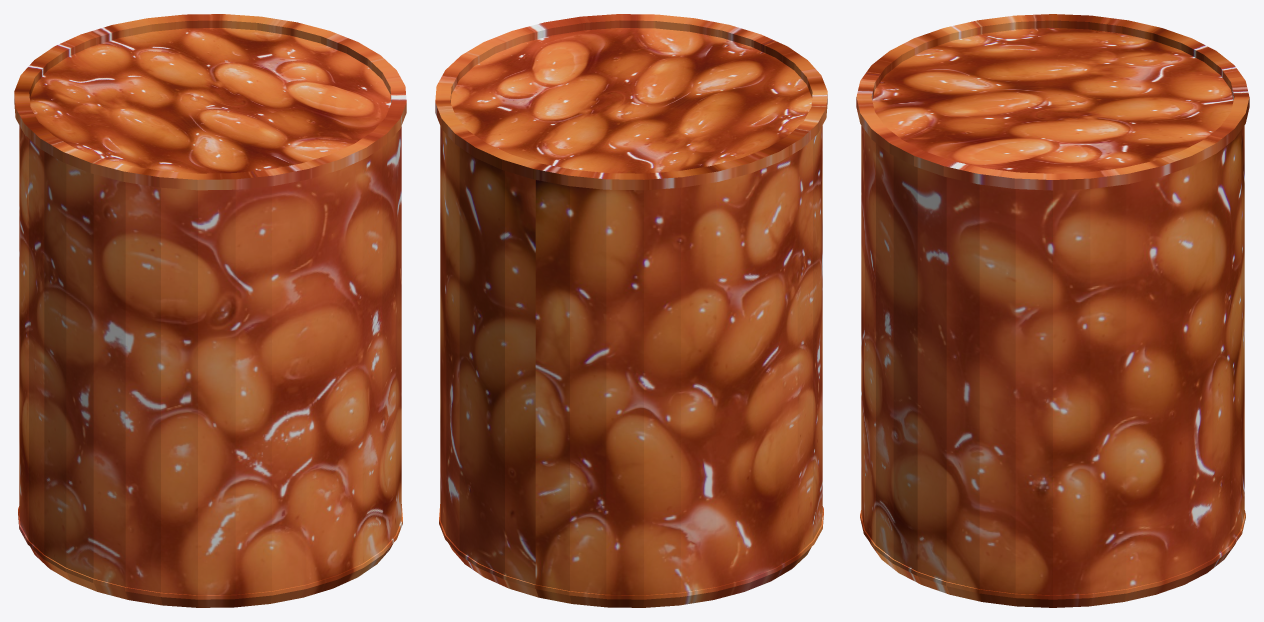
File: BEANS.glb
3 views of the same model, side by side, from view 1: azimuth 30°, elevation 25°; view 2: azimuth 150°, elevation 25°; view 3: azimuth 270°, elevation 25° (orthographic).
Visible parts, largest first — view 1: Cylinder; view 2: Cylinder; view 3: Cylinder.
Part boxes in pixels (x1=…): Cylinder: x1=14, y1=14, x2=406, y2=607; Cylinder: x1=435, y1=14, x2=827, y2=607; Cylinder: x1=856, y1=14, x2=1249, y2=607.
Size of the model in its own units: 2.05 by 2.49 by 2.05.
Materials: 1 (1 with a texture image).
